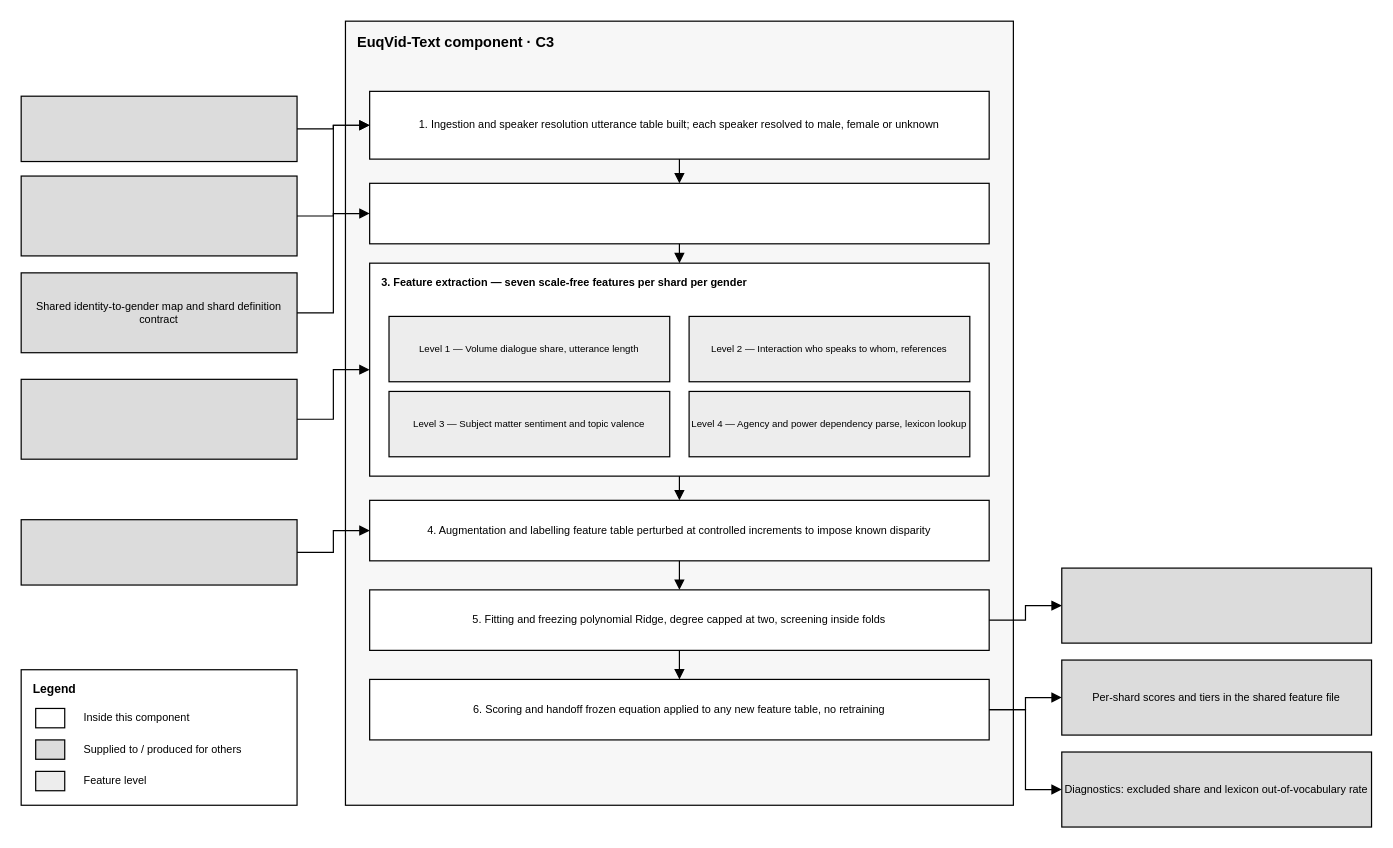
This 1393x848 diagram has some shape labels left out. The centre of each missing label's shape, as x and y in pixels:
2. Sharding utterances assigned to shards, partitioned by identity: pixel 678 213
AVA transcript recovered by ASR with active-speaker attribution: pixel 158 215
Connotation-frame lexicons agency and power ratings: pixel 158 418
Frozen equation, normalisation constants and tier thresholds: pixel 1216 605
MELD and AMI distributed annotation files: pixel 158 128
Shared augmentation and labelling protocol: pixel 158 551
